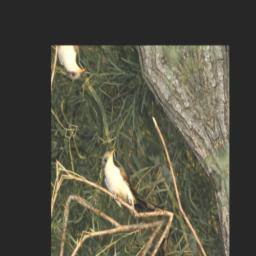Cuckoo: (95, 129, 166, 243)
